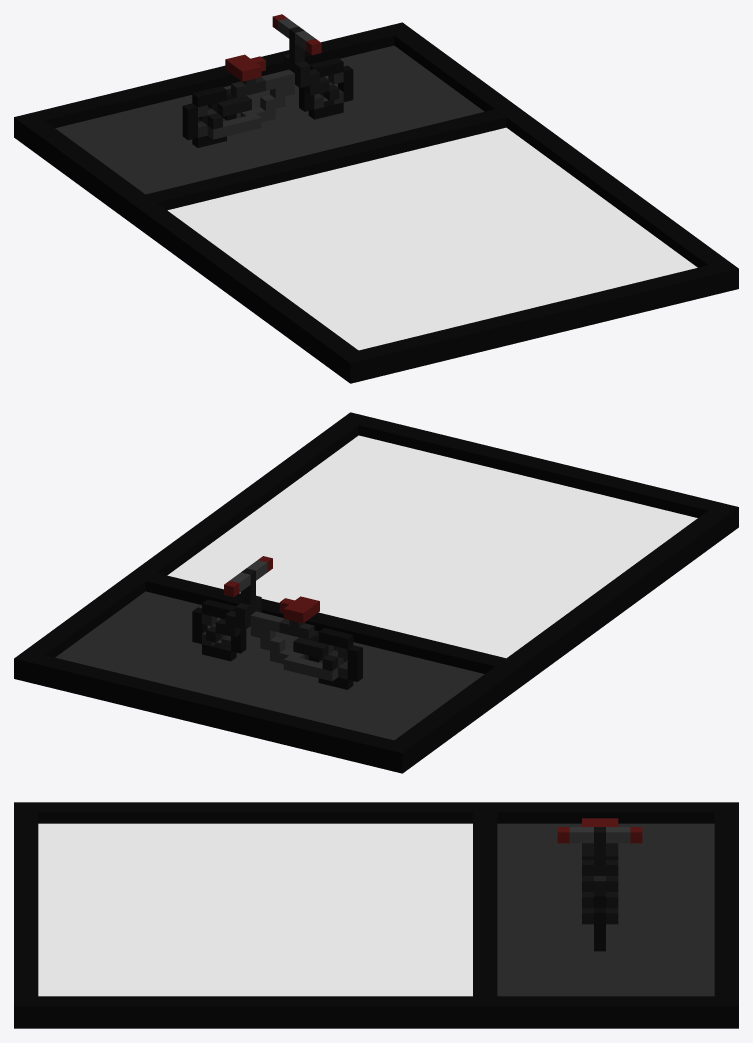
The model's file is tile18.obj.
The picture shows the model from 3 angles, top to bottom: view 1: azimuth 30°, elevation 25°; view 2: azimuth 150°, elevation 25°; view 3: azimuth 270°, elevation 25°; orthographic projection. The views are drawn at different scales.
Bounding box in the file's own units: 4 × 1 × 6.
1 material, 1 textured.
